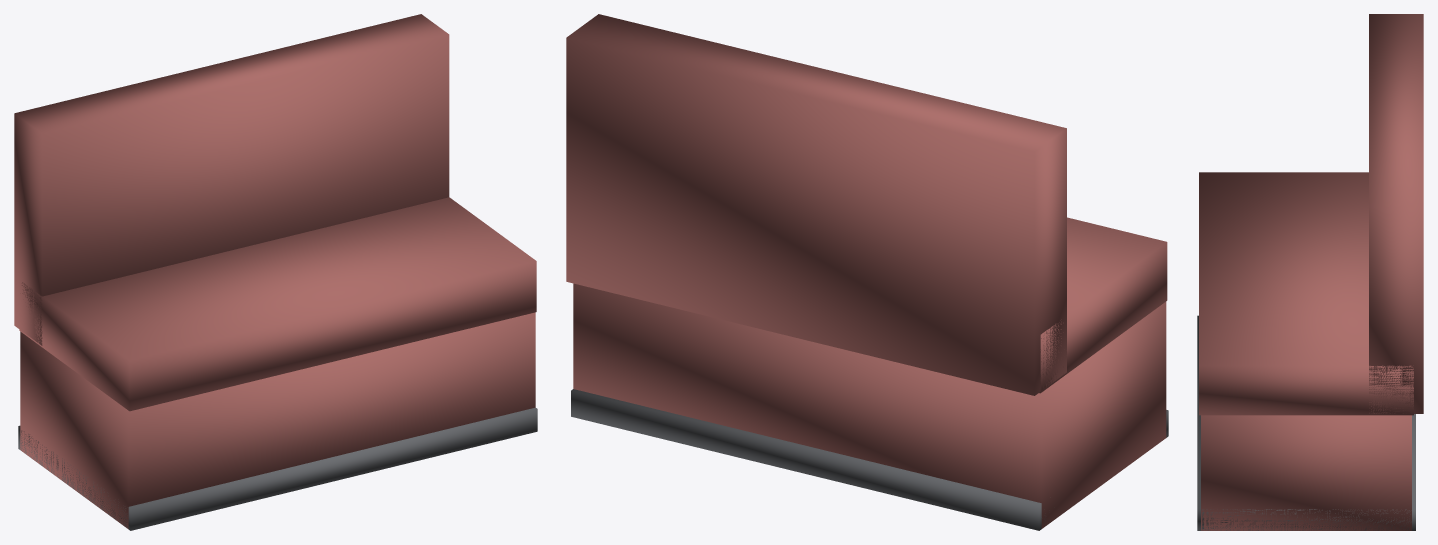
Rendered from diner_booth_single__squat.glb.
The picture shows the model from 3 angles, left to right: view 1: azimuth 30°, elevation 25°; view 2: azimuth 150°, elevation 25°; view 3: azimuth 270°, elevation 25°; orthographic projection. The views are drawn at different scales.
Parts seen in each view (by area): view 1: world; view 2: world; view 3: world.
Part boxes in pixels (x1,y1,x2,y2): world: (14, 14, 537, 530); world: (566, 14, 1168, 530); world: (1197, 14, 1423, 530).
Bounding box in the file's own units: 1.26 × 0.987 × 0.6264.
